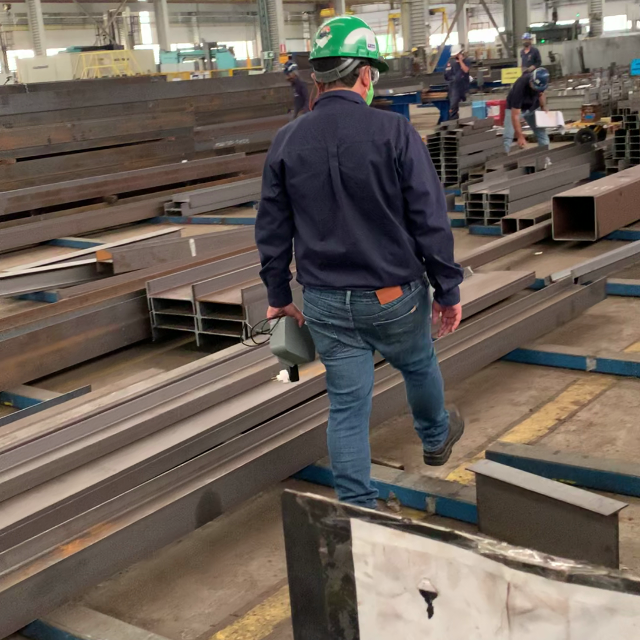helmet: (305, 15, 403, 70)
mask: (365, 81, 372, 100)
person: (256, 19, 465, 515)
safety-shoe: (420, 404, 465, 465)
